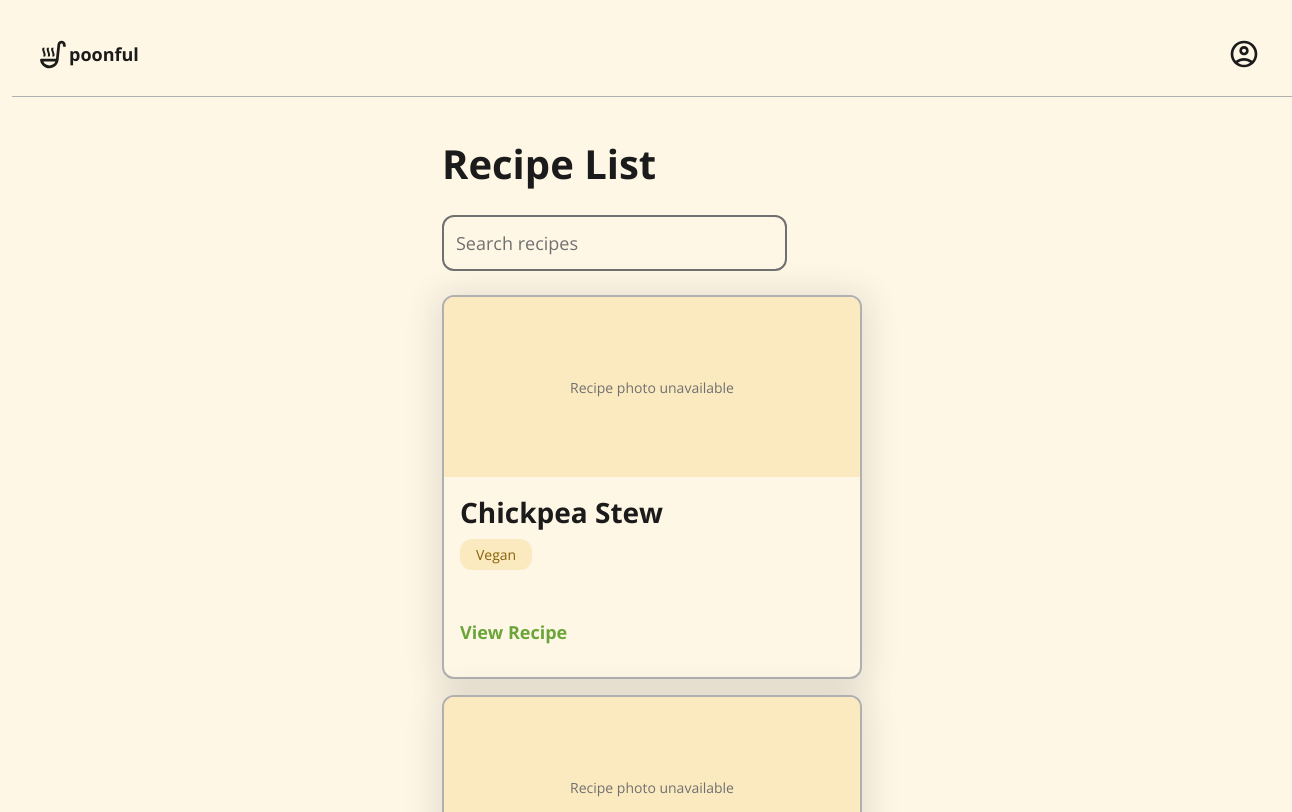
Test: lets guests fetch recipes and search by ingredient, tag, or title
Expected: the heading "Chickpea Stew" is shown, x1=460 y1=493 x2=663 y2=531
Type "spinach" into the search field at (614, 243), box x1=442 y1=215 x2=787 y2=271
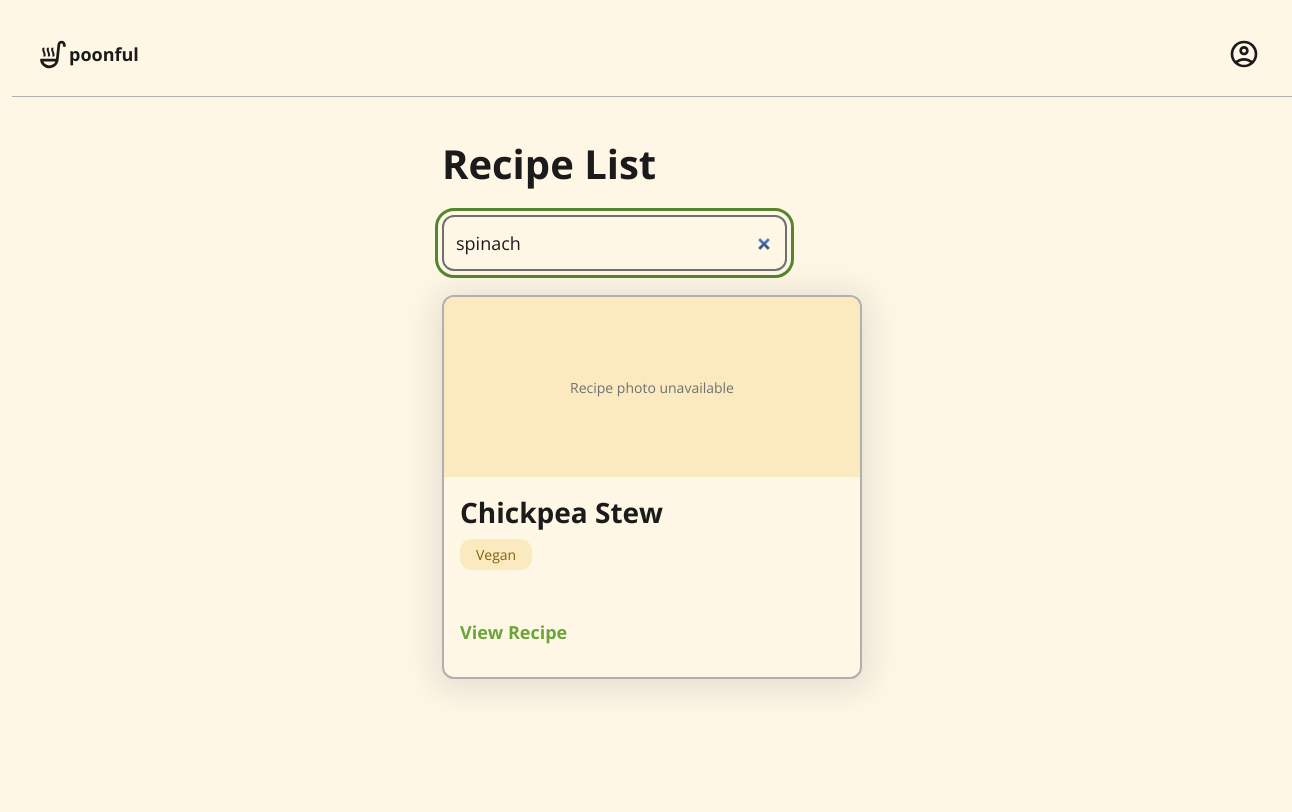
Expected: the heading "Chickpea Stew" is shown, x1=460 y1=493 x2=663 y2=531
Replace the text in the search field with "vegan" at (614, 243), box x1=442 y1=215 x2=787 y2=271
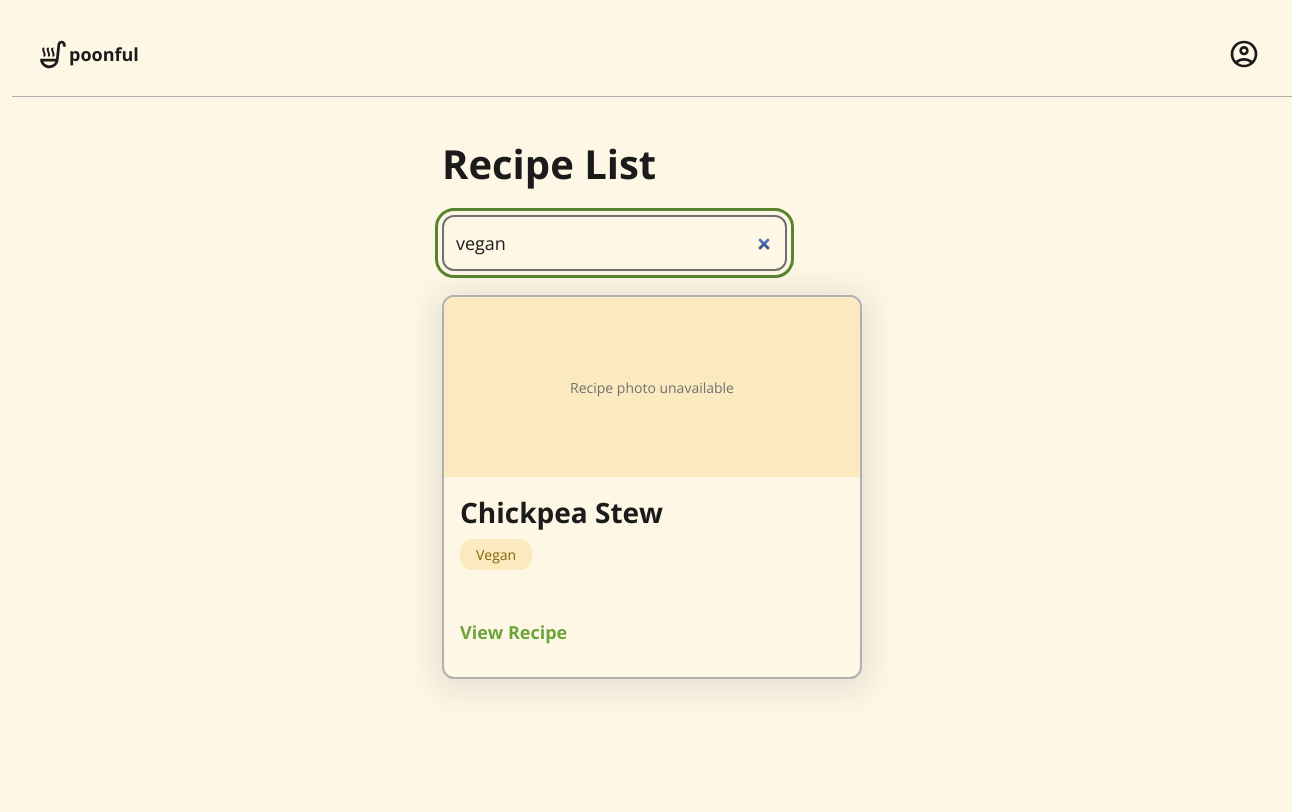
Expected: the heading "Chickpea Stew" is shown, x1=460 y1=493 x2=663 y2=531
Replace the text in the search field with "chickpea" at (614, 243), box x1=442 y1=215 x2=787 y2=271
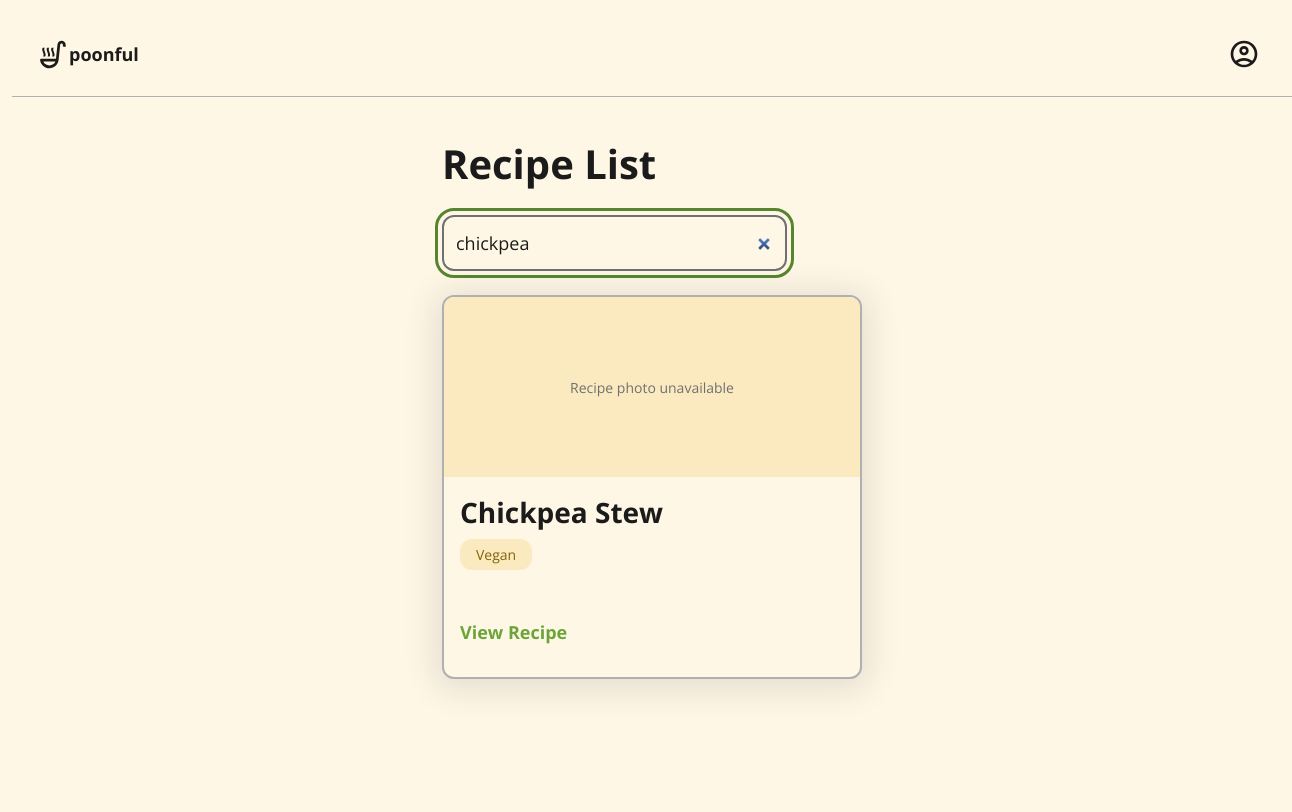
Expected: the heading "Chickpea Stew" is shown, x1=460 y1=493 x2=663 y2=531
Replace the text in the search field with "cake" at (614, 243), box x1=442 y1=215 x2=787 y2=271
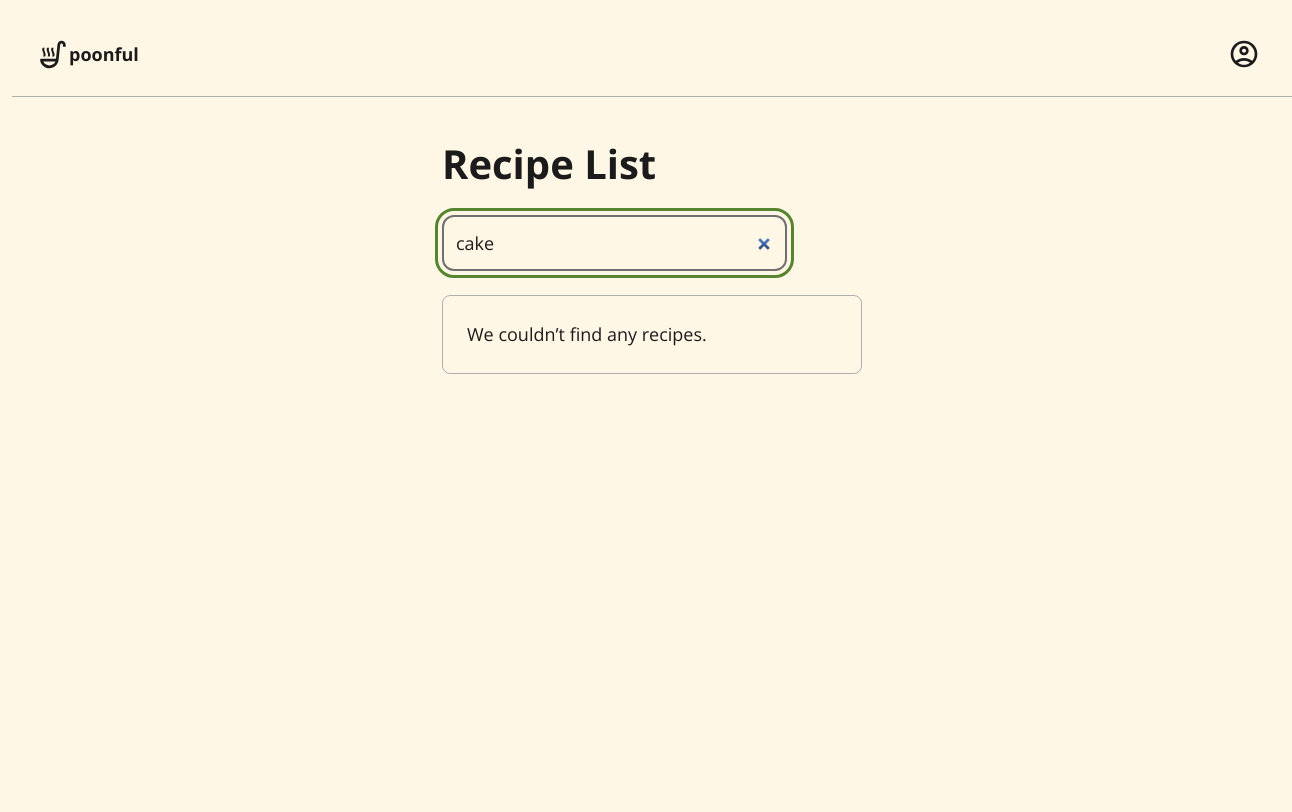
Result: the text "We couldn’t find any recipes." is shown at x1=442 y1=295 x2=862 y2=374
